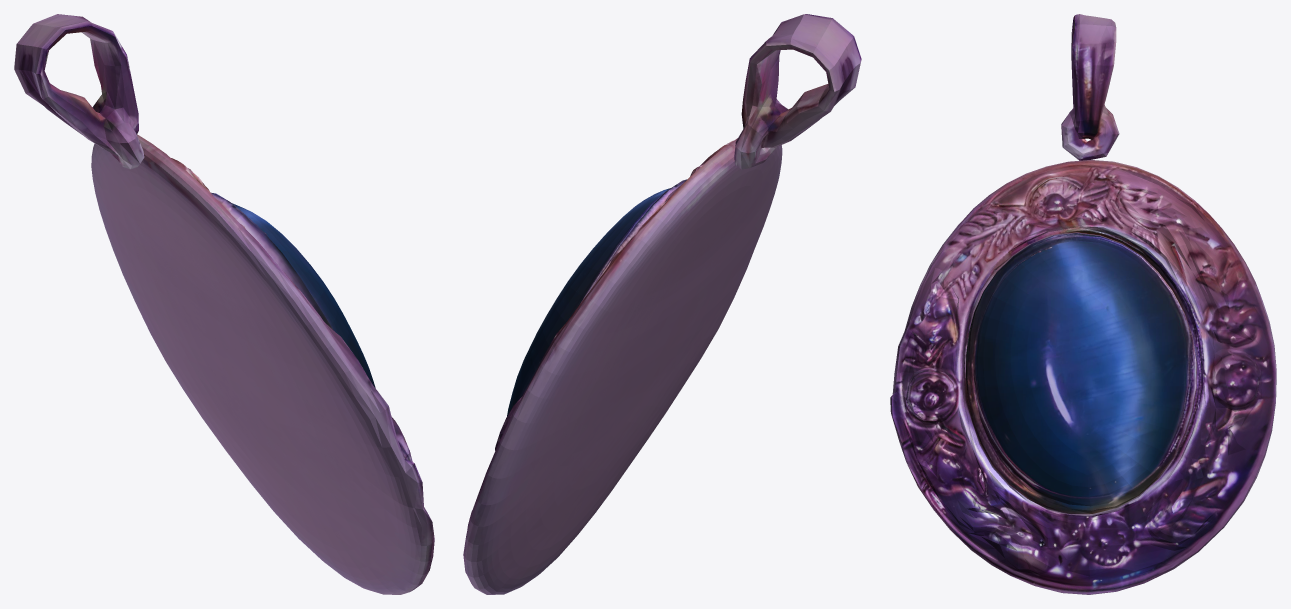
File: gem.glb
3 renders of one model, left to right at view 1: azimuth 30°, elevation 25°; view 2: azimuth 150°, elevation 25°; view 3: azimuth 270°, elevation 25°, orthographic. The views are drawn at different scales.
Parts seen in each view (by area): view 1: tripo_node_9ba902e7-4db5-4163-82d1-d15681e8dfc7; view 2: tripo_node_9ba902e7-4db5-4163-82d1-d15681e8dfc7; view 3: tripo_node_9ba902e7-4db5-4163-82d1-d15681e8dfc7.
Boxes of the visible parts, box(x1,y1,x2,y2) form: tripo_node_9ba902e7-4db5-4163-82d1-d15681e8dfc7: box(14, 14, 434, 594); tripo_node_9ba902e7-4db5-4163-82d1-d15681e8dfc7: box(463, 14, 861, 594); tripo_node_9ba902e7-4db5-4163-82d1-d15681e8dfc7: box(890, 14, 1276, 594).
Bounding box in the file's own units: 0.5516 × 0.9956 × 0.7401.
Materials: 1 (1 with a texture image).
